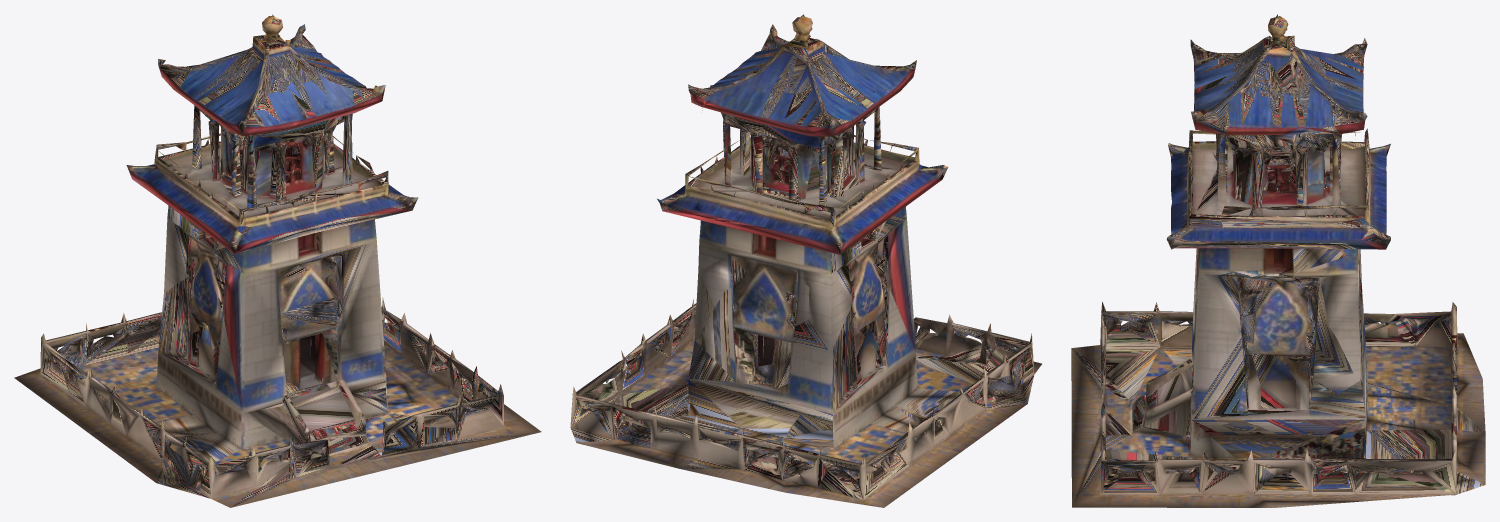
Rendered from Ornate_Watchtower.glb.
3 views of the same model, side by side, from view 1: azimuth 30°, elevation 25°; view 2: azimuth 150°, elevation 25°; view 3: azimuth 270°, elevation 25° (orthographic). The views are drawn at different scales.
Parts seen in each view (by area): view 1: Ornate_Watchtower; view 2: Ornate_Watchtower; view 3: Ornate_Watchtower.
Part boxes in pixels (x1=…): Ornate_Watchtower: x1=14, y1=14, x2=541, y2=507; Ornate_Watchtower: x1=570, y1=14, x2=1041, y2=507; Ornate_Watchtower: x1=1071, y1=14, x2=1485, y2=507.
Bounding box in the file's own units: 1.73 × 1.88 × 1.73.
Materials: 1 (1 with a texture image).
